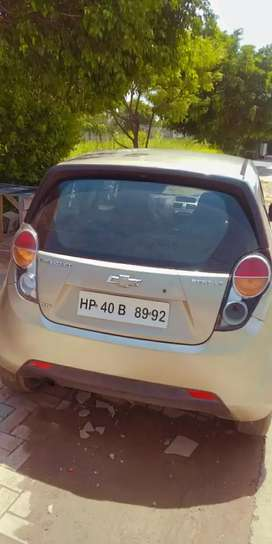HP40B8992: (76, 290, 169, 327)
